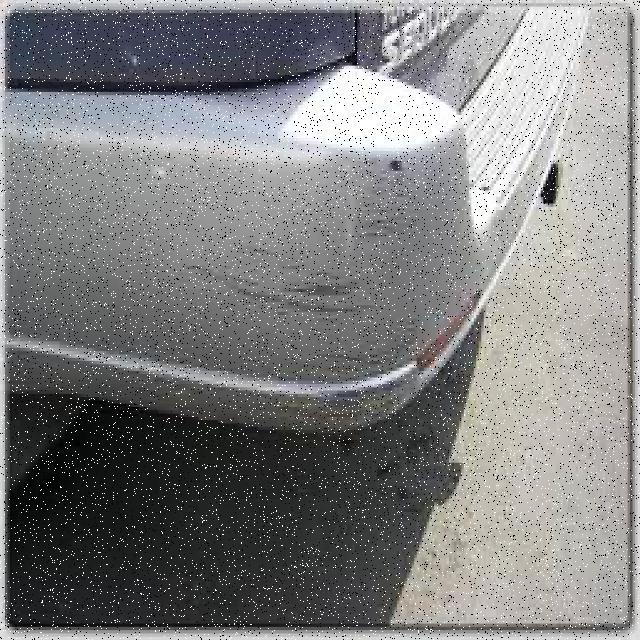rear-bumper-dent: (12, 66, 578, 437)
